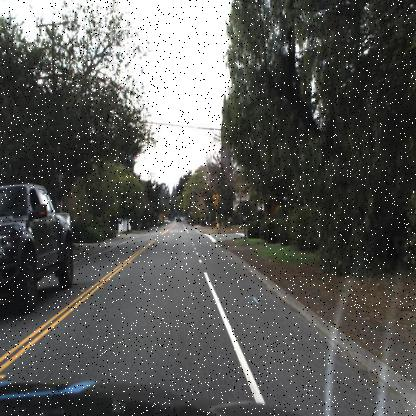car: (188, 218, 193, 224), (168, 220, 170, 224), (175, 219, 178, 221)
truck: (0, 184, 74, 315), (176, 215, 184, 223), (164, 217, 169, 224)
